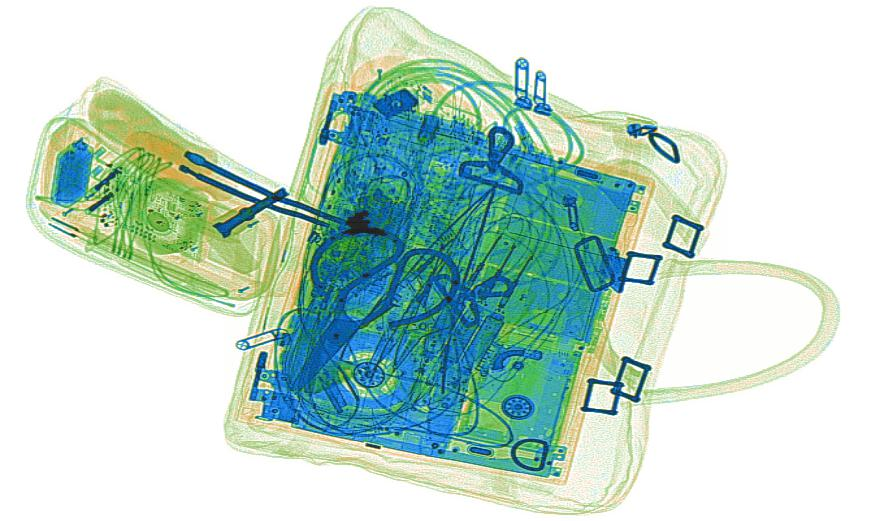battery: (421, 291, 506, 376), (48, 138, 95, 207)
scissors: (288, 222, 458, 392)
